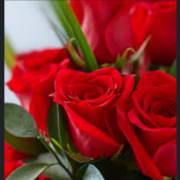RedRose: (54, 63, 131, 166)
